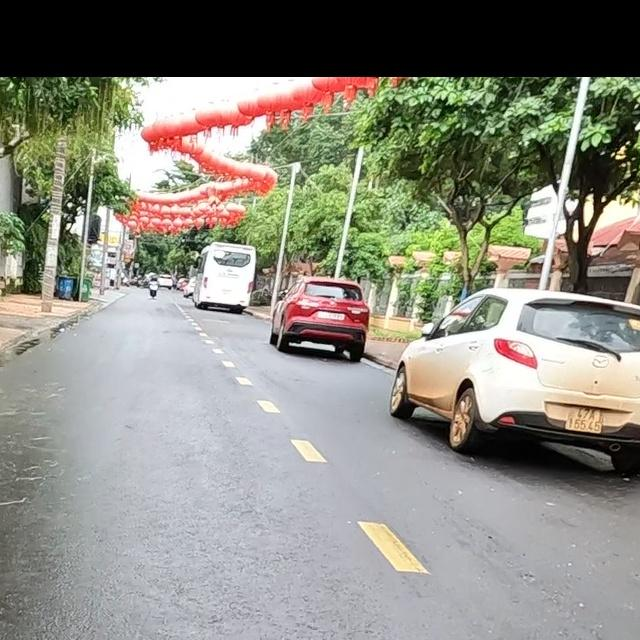license-plate: (564, 408, 603, 434)
